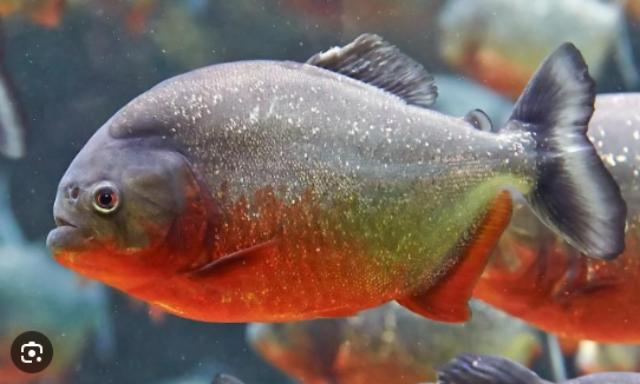Mulut: (15, 178, 125, 306)
Sirip Anal: (390, 173, 524, 333)
Sirip Dada: (165, 213, 298, 297)
Sirip Ekor: (494, 24, 640, 272)
Sirip Perut: (290, 291, 376, 335)
Sirip Punggung: (294, 19, 450, 123)
